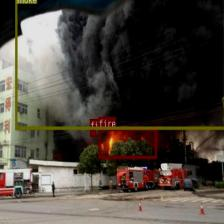fire: (98, 127, 156, 158), (90, 130, 95, 136)
smoke: (14, 0, 223, 128)
